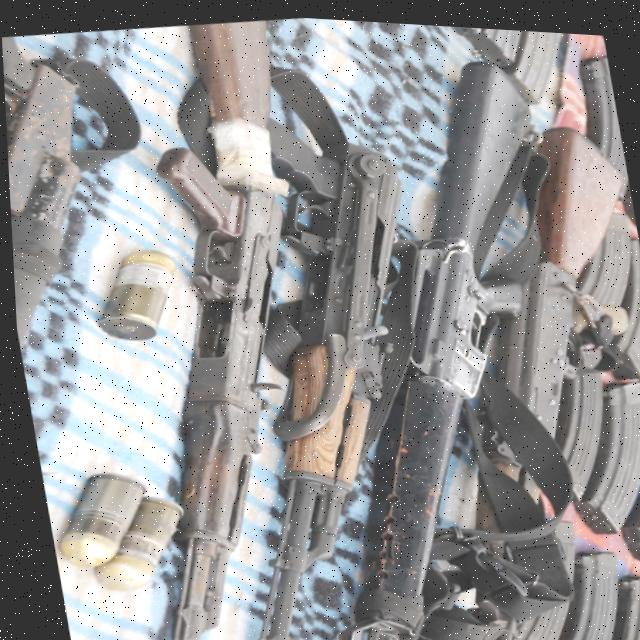firearm: (248, 46, 616, 640), (53, 6, 369, 640), (158, 95, 475, 640), (437, 111, 640, 479), (1, 30, 125, 360)
grenade: (79, 233, 192, 346), (38, 462, 158, 565), (94, 487, 202, 600)
